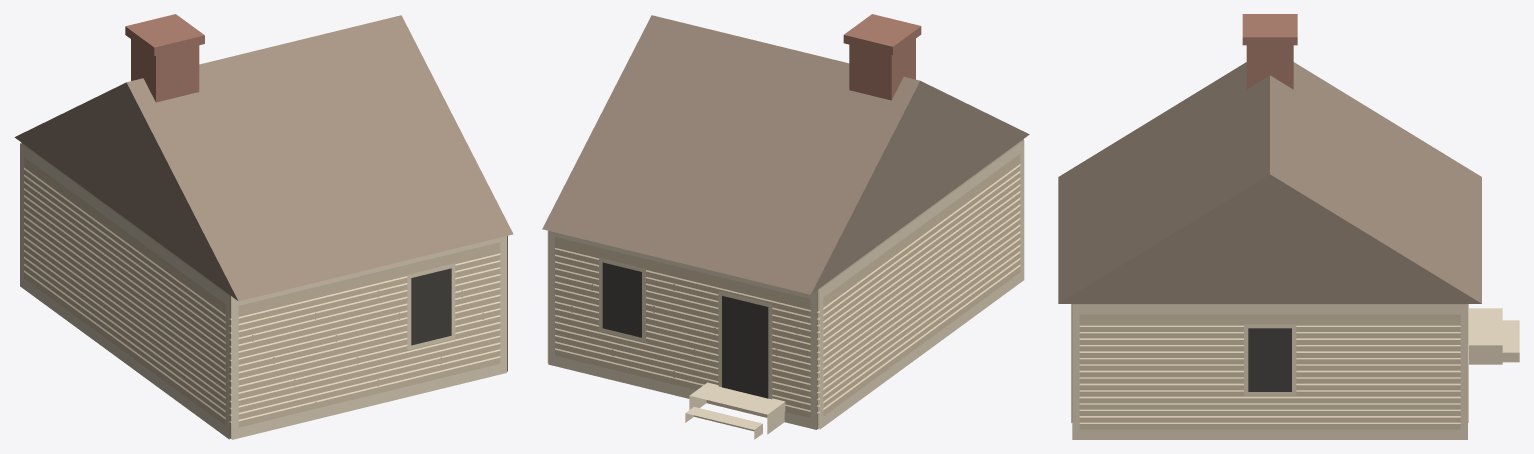
File: recon_1835_blk_randolph_franklin_d3_04__inferred_1835.glb
3 renders of one model, left to right at view 1: azimuth 30°, elevation 25°; view 2: azimuth 150°, elevation 25°; view 3: azimuth 270°, elevation 25°, orthographic. The views are drawn at different scales.
Parts seen in each view (by area): view 1: recon_1835_blk_randolph_franklin_d3_04__inferred_1835; view 2: recon_1835_blk_randolph_franklin_d3_04__inferred_1835; view 3: recon_1835_blk_randolph_franklin_d3_04__inferred_1835.
Boxes of the visible parts, box(x1,y1,x2,y2) form: recon_1835_blk_randolph_franklin_d3_04__inferred_1835: box(14, 14, 513, 439); recon_1835_blk_randolph_franklin_d3_04__inferred_1835: box(542, 14, 1029, 439); recon_1835_blk_randolph_franklin_d3_04__inferred_1835: box(1058, 14, 1519, 439).
Bounding box in the file's own units: 5.42 × 5.98 × 8.21.
